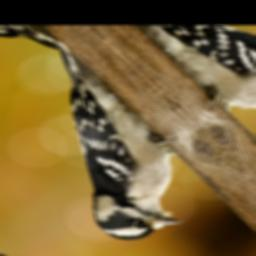Woodpecker: (0, 41, 225, 256)
